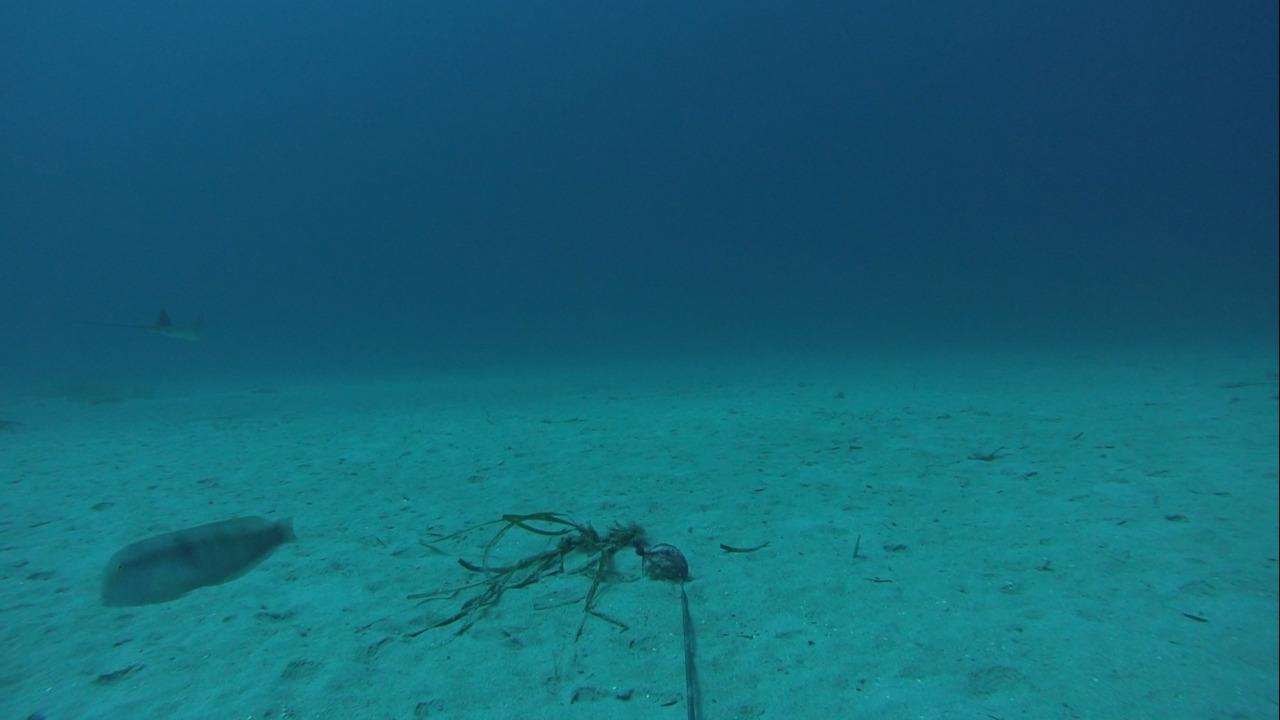myliobatis: (35, 299, 214, 353)
raor: (99, 511, 299, 607)
